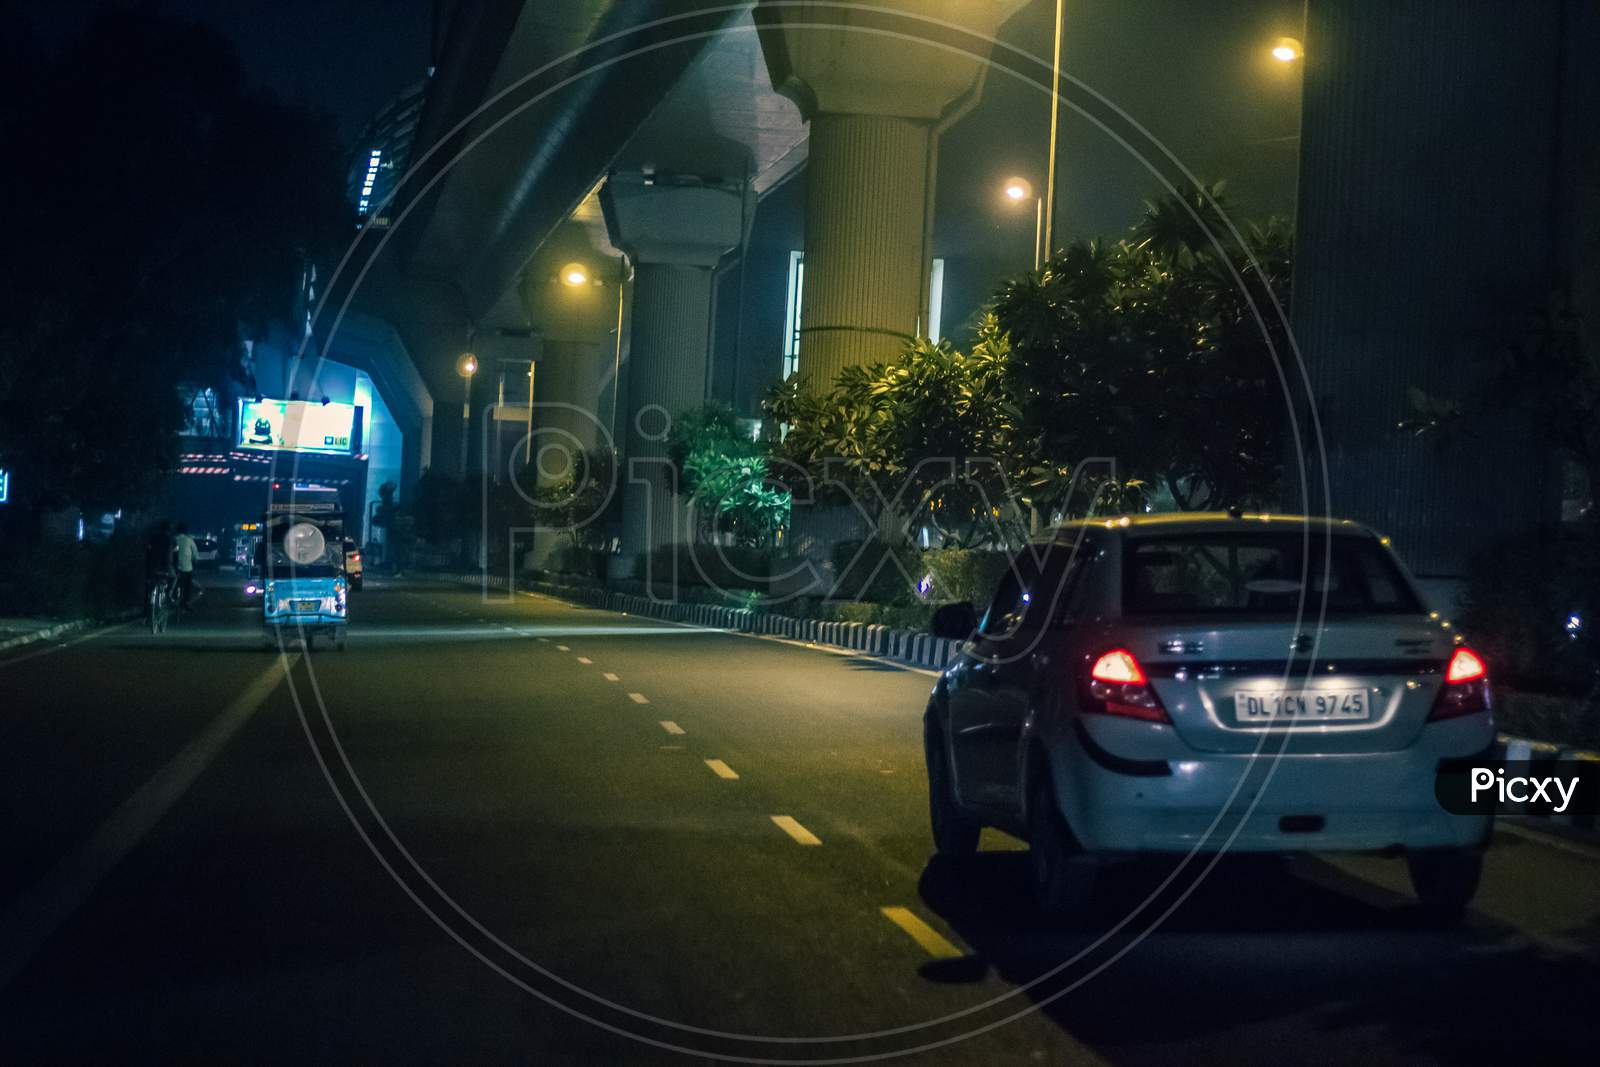car: (921, 508, 1498, 915), (320, 539, 365, 587), (186, 535, 221, 574)
rickshaw: (262, 504, 350, 653)
